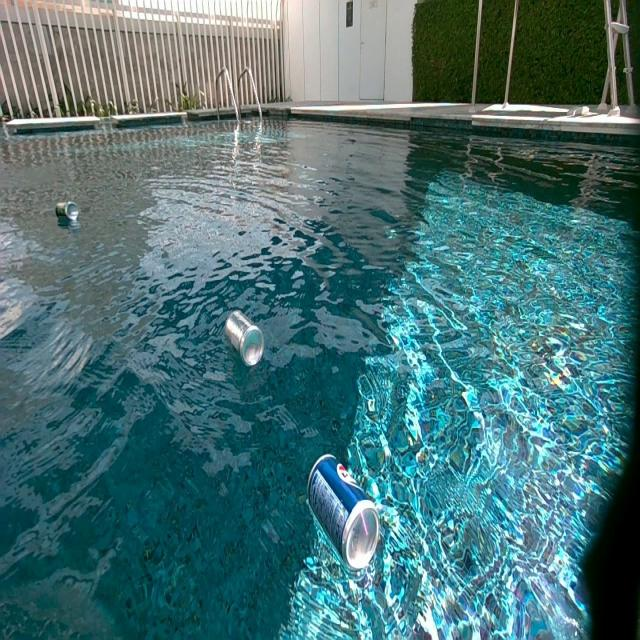Cans: (308, 450, 385, 572), (225, 311, 266, 369), (56, 202, 78, 223)
